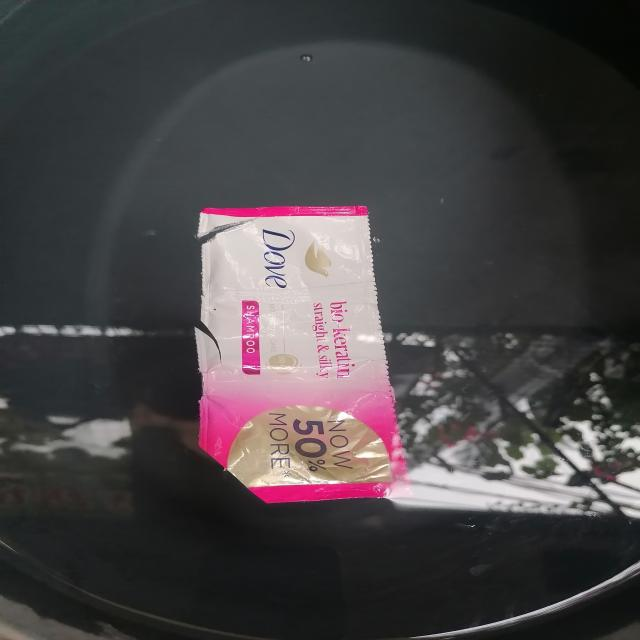Plastic Wrapper: (195, 205, 406, 503), (295, 313, 299, 316)
